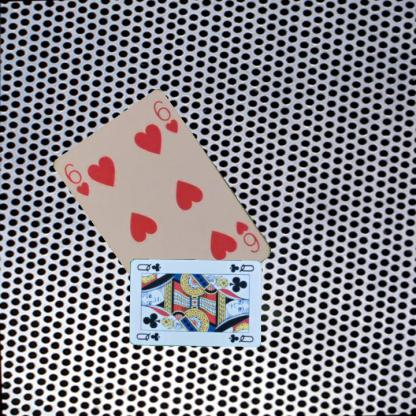6h: (61, 160, 92, 198), (233, 219, 262, 254)
Qc: (226, 261, 255, 274), (134, 330, 161, 342)
